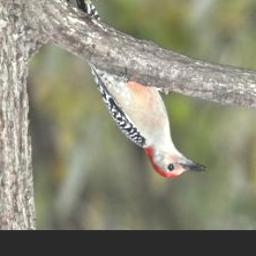Woodpecker: (70, 0, 208, 180)
